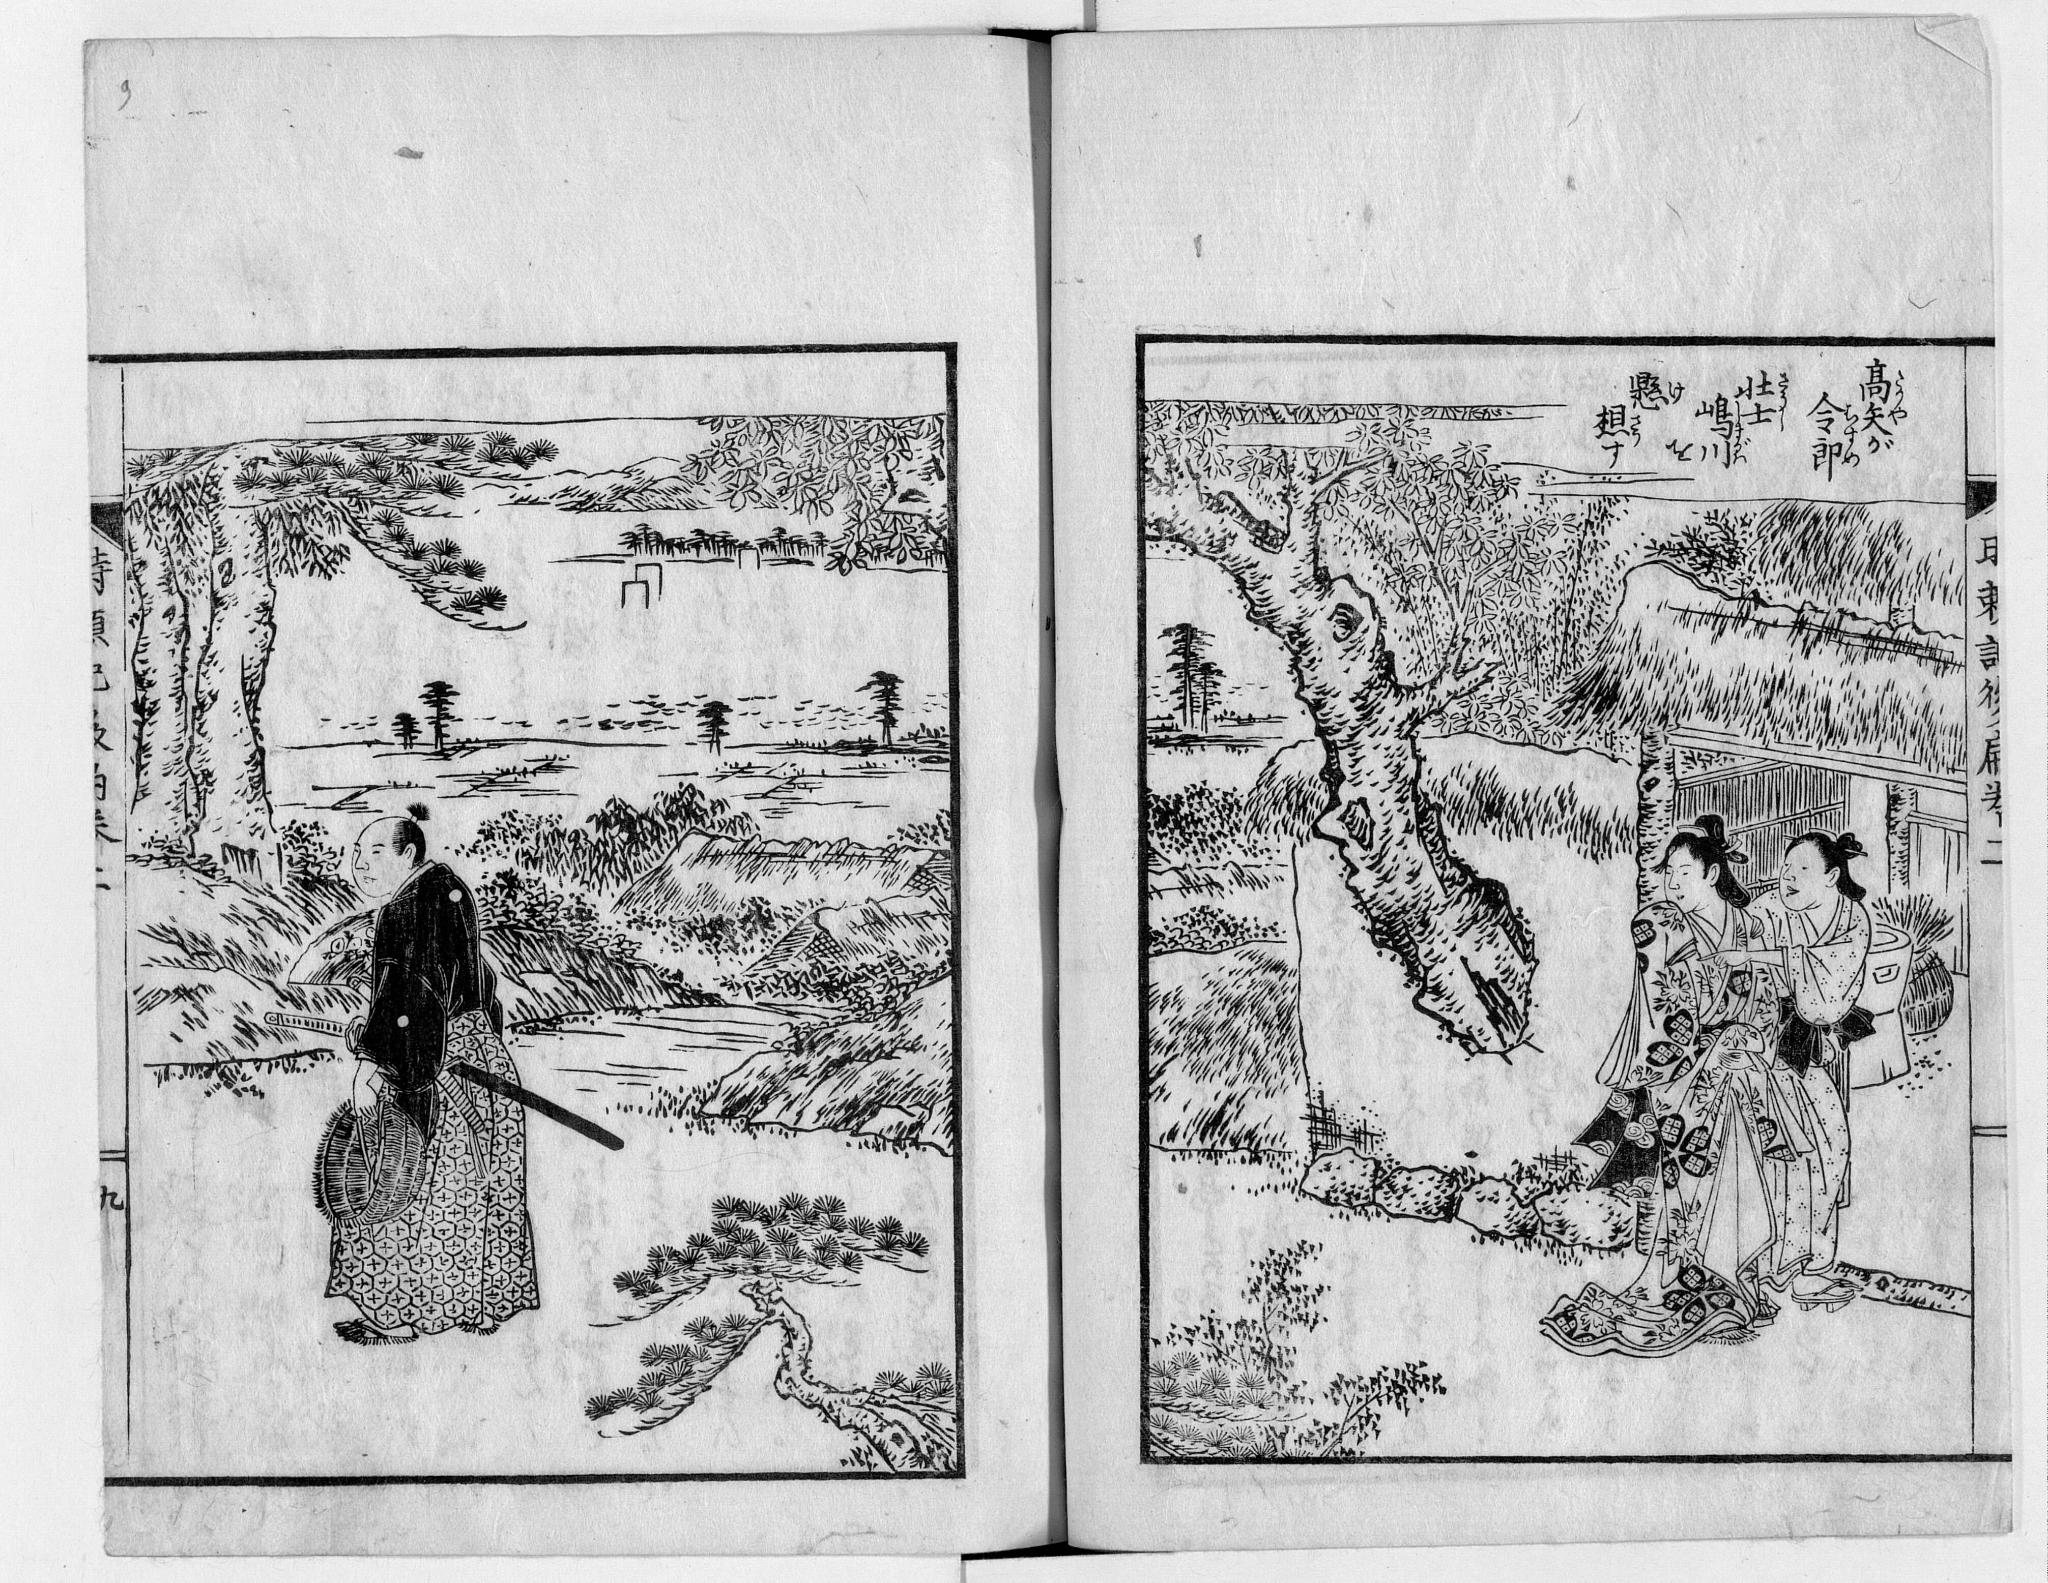MainZone-Character: (1805, 437, 1862, 484), (1857, 358, 1912, 404), (1805, 392, 1858, 437), (1589, 404, 1644, 447), (1694, 392, 1742, 439), (1629, 372, 1684, 412), (1735, 366, 1790, 406), (1696, 437, 1755, 472), (1860, 406, 1910, 437), (1742, 404, 1792, 434)
MainZone-Ruby: (1840, 401, 1857, 436), (1734, 439, 1754, 466), (1842, 441, 1860, 469), (1667, 376, 1682, 407), (1627, 414, 1642, 446), (1887, 406, 1910, 426), (1893, 369, 1907, 402), (1732, 401, 1742, 437), (1777, 371, 1789, 401), (1777, 406, 1787, 434)
